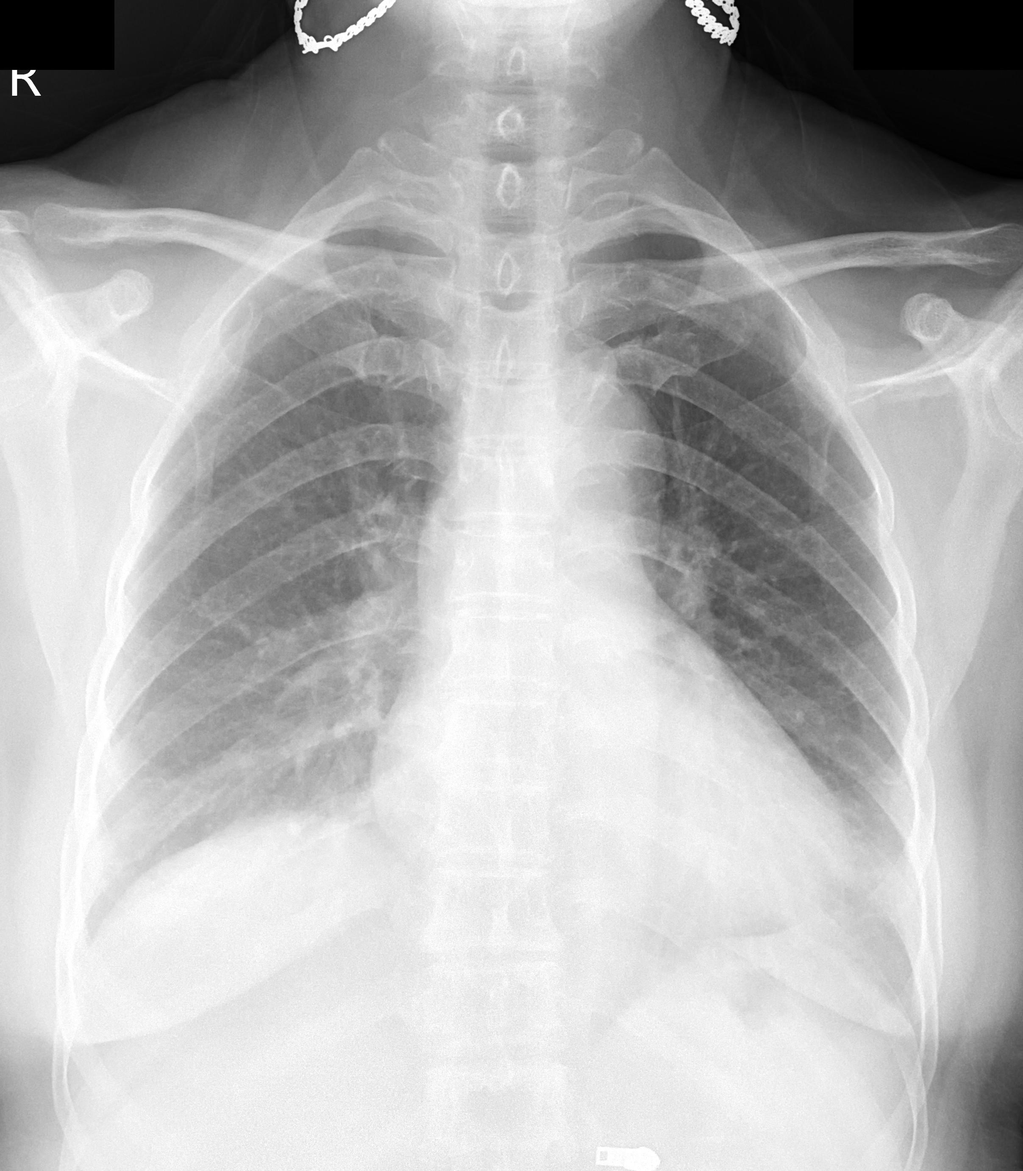Aortic enlargement: (533, 375, 670, 520)
Cardiomegaly: (362, 717, 862, 896)
